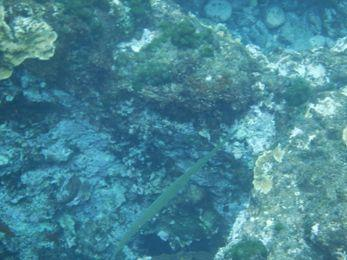Fistularia commersonii: (62, 118, 238, 257)
